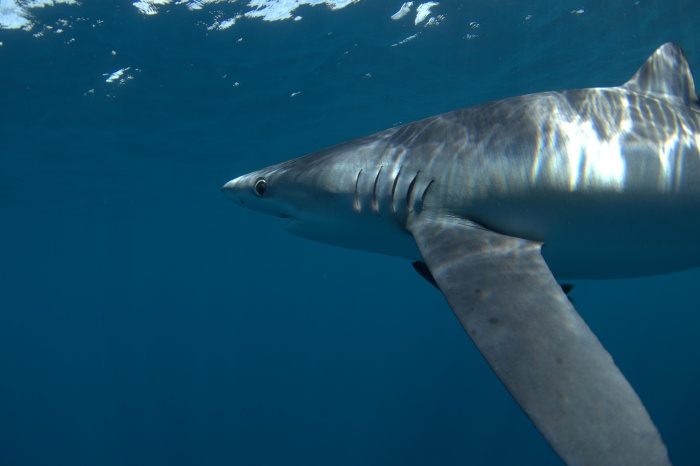Azul: (173, 43, 700, 449), (380, 228, 691, 466)
